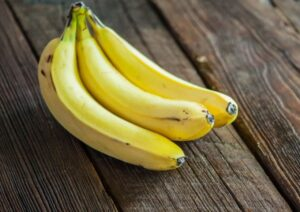looks_good: (21, 1, 259, 187)
